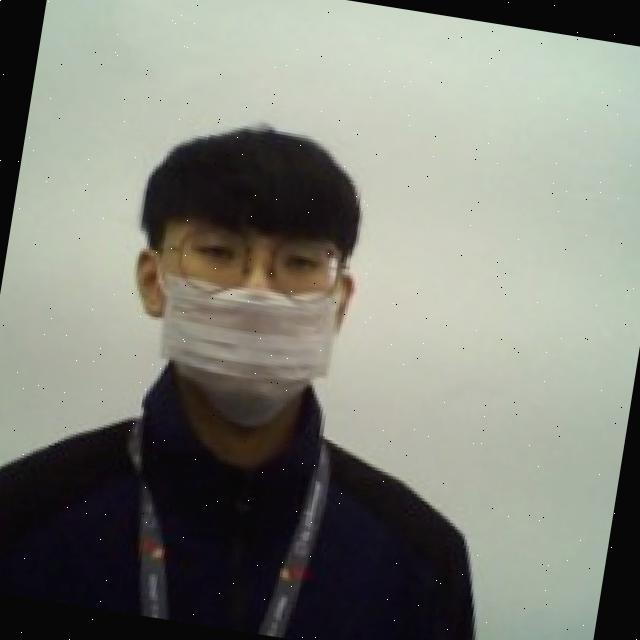mask: (113, 244, 353, 449)
no_gloves: (128, 102, 381, 281)
